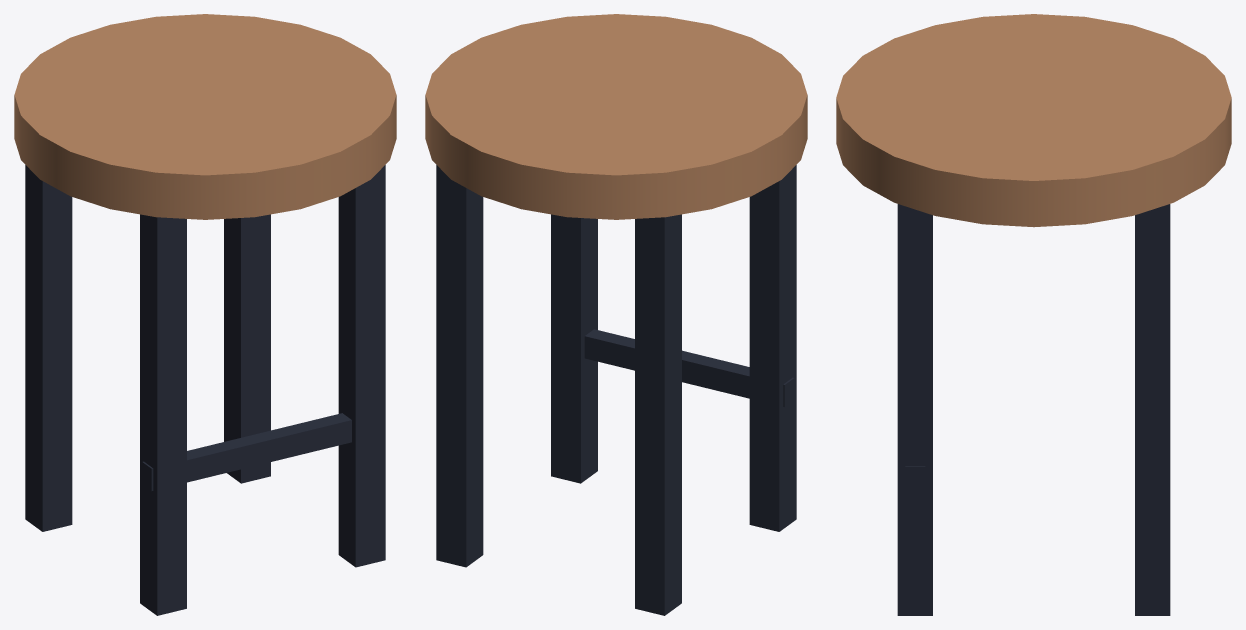
The model's file is stool.glb.
The picture shows the model from 3 angles, left to right: view 1: azimuth 30°, elevation 25°; view 2: azimuth 150°, elevation 25°; view 3: azimuth 270°, elevation 25°; orthographic projection. The views are drawn at different scales.
Visible parts, largest first — view 1: stool; view 2: stool; view 3: stool.
Boxes of the visible parts, x1,y1,x2,y2 form: stool: (14, 14, 396, 615); stool: (425, 14, 807, 615); stool: (836, 14, 1231, 615).
Bounding box in the file's own units: 35 × 45 × 35.
